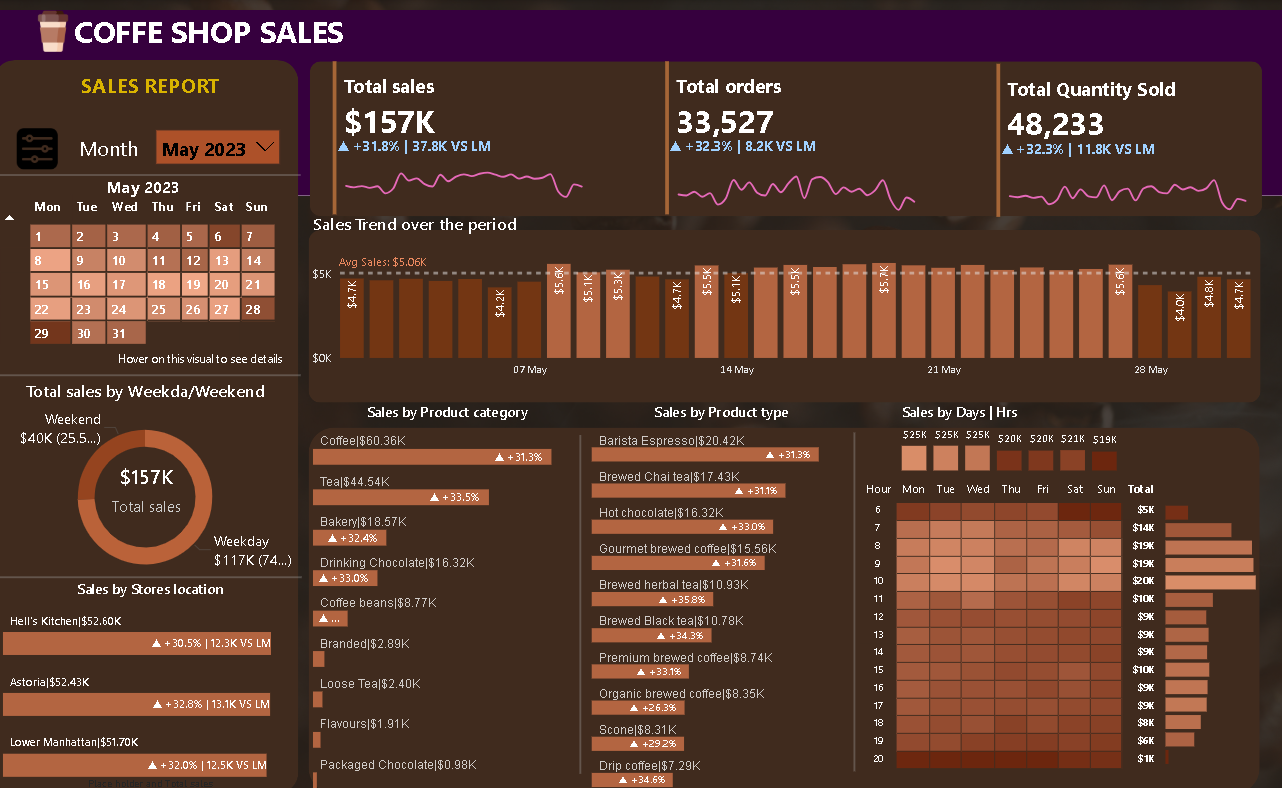

The dashboard page shown, as its layout file describes it:
{"tool":"powerbi","page":{"name":"Page 1","canvas":[1400,850],"ordinal":0},"visuals":[{"type":"shape","box":[0,11,1399.7,198.8],"z":0},{"type":"shape","box":[18.9,64.7,326.7,785.9],"z":1000},{"type":"shape","box":[357.5,65.6,1020.3,166],"z":2000},{"type":"textbox","box":[88.4,6.7,322.7,58.9],"z":3000},{"type":"slicer","fields":{"Values":["Date table.Month year"]},"box":[187.8,134.1,143.6,45.8],"z":4000},{"type":"group","id":"g1","title":"Group 1","box":[366.9,65.6,299.9,166],"z":5000},{"type":"cardVisual","fields":{"Data":["Transactions.Total sales"]},"box":[366.9,65.6,299.9,164.7],"z":5000,"group":"g1"},{"type":"cardVisual","fields":{"Data":["Transactions.Total orders"]},"box":[722.4,65.6,299.9,164.7],"z":5000,"group":"g2"},{"type":"cardVisual","fields":{"Data":["Transactions.Total Quantity Sold"]},"box":[1077.8,68.8,299.9,164.7],"z":5000,"group":"g3"},{"type":"group","id":"g2","title":"Group 1","box":[722.4,65.6,299.9,166],"z":6000},{"type":"lineChart","fields":{"Y":["Transactions.Total sales"],"Category":["Date table.Date Hierarchy.Date"]},"box":[382.1,145.7,282.5,85.7],"z":6000,"group":"g1"},{"type":"lineChart","fields":{"Category":["Date table.Date Hierarchy.Date"],"Y":["Transactions.Total orders"]},"box":[737.6,145.7,282.5,85.7],"z":6000,"group":"g2"},{"type":"lineChart","fields":{"Category":["Date table.Date Hierarchy.Date"],"Y":["Transactions.Total Quantity Sold"]},"box":[1093,148.9,282.5,85.7],"z":6000,"group":"g3"},{"type":"group","id":"g3","title":"Group 1","box":[1077.8,68.8,299.9,166],"z":7000},{"type":"pivotTable","fields":{"Columns":["Date table.Day name"],"Values":["Min(Date table.Day number)"],"Rows":["Date table.Week number"]},"box":[22.1,203.6,326.7,202],"z":8000},{"type":"card","fields":{"Values":["Min(Date table.Month year)"]},"box":[96.3,179.9,165.7,45.8],"z":9000},{"type":"card","fields":{"Values":["Transactions.Foot note"]},"box":[121.5,367.7,236.7,36.3],"z":10000},{"type":"shape","box":[22.1,374,326.7,56.8],"z":11000},{"type":"shape","box":[22.1,173.6,326.7,26.8],"z":12000},{"type":"card","fields":{"Values":["Transactions.Total sales"]},"box":[113.6,486,137.3,74.2],"z":13000},{"type":"shape","box":[23.7,588.6,325.1,58.4],"z":14000},{"type":"donutChart","fields":{"Category":["Date table.Weekda/Weekend"],"Y":["Transactions.Total sales"]},"box":[18.9,405.6,325.1,227.2],"z":15000},{"type":"clusteredBarChart","title":"Sales by Stores location","fields":{"Y":["Transactions.Place holder","Transactions.Total sales"],"Category":["Transactions.store_location"]},"box":[23.7,620.2,325.1,230.4],"z":16000},{"type":"shape","box":[356.6,246.2,1020,185],"z":17000},{"type":"shape","box":[356.2,457.9,1019,392.3],"z":18000},{"type":"columnChart","title":"Sales Trend over the period","fields":{"Category":["Transactions.transaction_date"],"Y":["Transactions.Total sales"]},"box":[356.2,227.6,1020.3,184.8],"z":19000},{"type":"clusteredBarChart","title":"Sales by Stores location","fields":{"Y":["Transactions.Place holder","Transactions.Total sales"],"Category":["Transactions.store_location"]},"box":[23.7,619.6,325.1,230.4],"z":20000},{"type":"clusteredBarChart","title":"Sales by Product category","fields":{"Y":["Transactions.Place holder","Transactions.Total sales"],"Category":["Transactions.product_category"]},"box":[356.2,431.2,297.3,419.1],"z":21000},{"type":"shape","box":[594.9,465.5,105.7,362.9],"z":22000},{"type":"clusteredBarChart","title":"Sales by Product type","fields":{"Y":["Transactions.Place holder","Transactions.Total sales"],"Category":["Transactions.product_type"]},"box":[654.8,431.2,287.9,417.8],"z":23000},{"type":"shape","box":[921.6,463.9,39.5,362.9],"z":24000},{"type":"pivotTable","fields":{"Rows":["Transactions.Hour"],"Columns":["Date table.Day name"],"Values":["Transactions.Total sales"]},"box":[942.1,509.7,334.5,329.8],"z":25000},{"type":"barChart","fields":{"Category":["Transactions.Hour"],"Y":["Transactions.Total sales"]},"box":[1269.4,528.9,108.5,294.6],"z":26000},{"type":"columnChart","title":"Sales by Days | Hrs","fields":{"Y":["Transactions.Total sales"],"Category":["Date table.Day name"]},"box":[986.9,431.2,241,79],"z":27000},{"type":"textbox","box":[88.4,137.3,107.3,48.9],"z":28000},{"type":"textbox","box":[25.2,71,323.5,39.5],"z":28001},{"type":"image","box":[34.7,132.6,61.5,53.7],"z":28002},{"type":"image","box":[50.5,6.3,63.1,53.7],"z":28003}]}

Visuals, with their boxes in screenshot pixels (x1, y1, x2, y2), scaled from the page's 1400x850 canvas onto the 1282x788 screenshot:
shape: (x1=0, y1=10, x2=1281, y2=194)
shape: (x1=17, y1=60, x2=316, y2=787)
shape: (x1=327, y1=61, x2=1262, y2=215)
textbox: (x1=81, y1=6, x2=376, y2=61)
slicer - Date table.Month year: (x1=172, y1=124, x2=303, y2=167)
"Group 1" group: (x1=336, y1=61, x2=611, y2=215)
cardVisual - Transactions.Total sales: (x1=336, y1=61, x2=611, y2=214)
cardVisual - Transactions.Total orders: (x1=662, y1=61, x2=936, y2=214)
cardVisual - Transactions.Total Quantity Sold: (x1=987, y1=64, x2=1262, y2=216)
"Group 1" group: (x1=662, y1=61, x2=936, y2=215)
lineChart - Transactions.Total sales x Date table.Date Hierarchy.Date: (x1=350, y1=135, x2=609, y2=215)
lineChart - Date table.Date Hierarchy.Date x Transactions.Total orders: (x1=675, y1=135, x2=934, y2=215)
lineChart - Date table.Date Hierarchy.Date x Transactions.Total Quantity Sold: (x1=1001, y1=138, x2=1260, y2=217)
"Group 1" group: (x1=987, y1=64, x2=1262, y2=218)
pivotTable - Date table.Day name x Min(Date table.Day number): (x1=20, y1=189, x2=319, y2=376)
card - Min(Date table.Month year): (x1=88, y1=167, x2=240, y2=209)
card - Transactions.Foot note: (x1=111, y1=341, x2=328, y2=375)
shape: (x1=20, y1=347, x2=319, y2=399)
shape: (x1=20, y1=161, x2=319, y2=186)
card - Transactions.Total sales: (x1=104, y1=451, x2=230, y2=519)
shape: (x1=22, y1=546, x2=319, y2=600)
donutChart - Date table.Weekda/Weekend x Transactions.Total sales: (x1=17, y1=376, x2=315, y2=587)
"Sales by Stores location" clusteredBarChart: (x1=22, y1=575, x2=319, y2=787)
shape: (x1=327, y1=228, x2=1261, y2=400)
shape: (x1=326, y1=425, x2=1259, y2=787)
"Sales Trend over the period" columnChart: (x1=326, y1=211, x2=1260, y2=382)
"Sales by Stores location" clusteredBarChart: (x1=22, y1=574, x2=319, y2=787)
"Sales by Product category" clusteredBarChart: (x1=326, y1=400, x2=598, y2=787)
shape: (x1=545, y1=432, x2=642, y2=768)
"Sales by Product type" clusteredBarChart: (x1=600, y1=400, x2=863, y2=787)
shape: (x1=844, y1=430, x2=880, y2=766)
pivotTable - Transactions.Hour x Date table.Day name: (x1=863, y1=473, x2=1169, y2=778)
barChart - Transactions.Hour x Transactions.Total sales: (x1=1162, y1=490, x2=1262, y2=763)
"Sales by Days | Hrs" columnChart: (x1=904, y1=400, x2=1124, y2=473)
textbox: (x1=81, y1=127, x2=179, y2=173)
textbox: (x1=23, y1=66, x2=319, y2=102)
image: (x1=32, y1=123, x2=88, y2=173)
image: (x1=46, y1=6, x2=104, y2=56)
